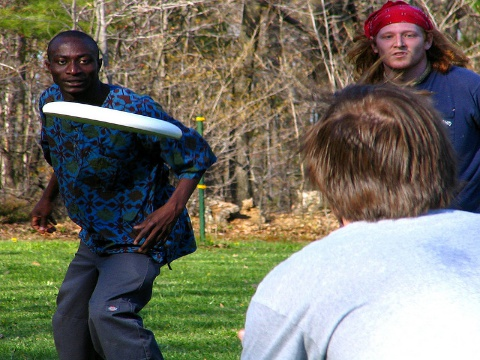hand: (132, 205, 177, 255), (31, 199, 62, 234)
